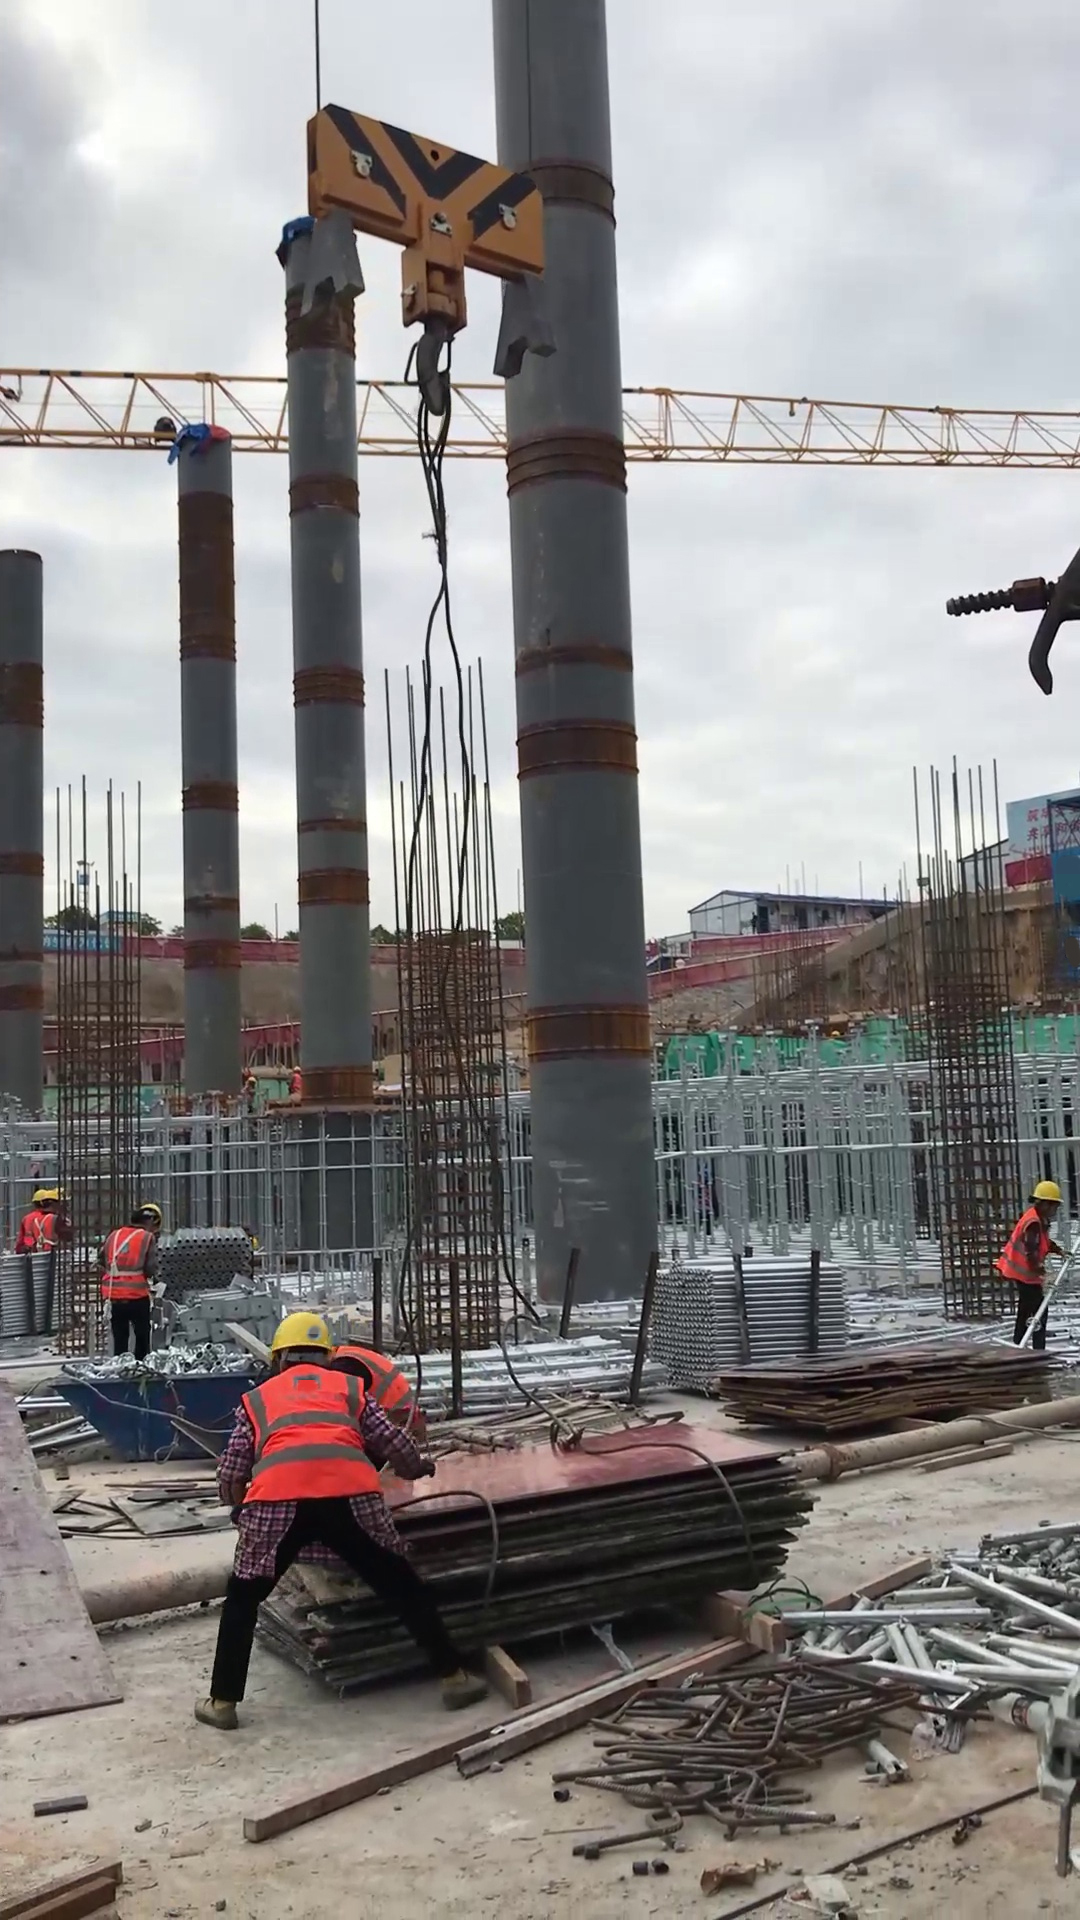board: (235, 1413, 830, 1715), (709, 1337, 1071, 1451)
helmet: (264, 1304, 336, 1365), (1024, 1175, 1064, 1215), (128, 1197, 167, 1232), (28, 1186, 72, 1214)
hook: (271, 101, 580, 422)
hopper: (56, 1353, 245, 1470)
person: (189, 1304, 499, 1743), (979, 1175, 1080, 1361), (94, 1197, 178, 1365), (321, 1339, 435, 1457), (17, 1176, 78, 1263)
scaffold: (640, 1243, 855, 1401), (154, 1219, 262, 1299)
vest: (222, 1365, 390, 1514), (333, 1336, 415, 1419), (993, 1211, 1061, 1288), (97, 1225, 157, 1304), (18, 1207, 62, 1257)
